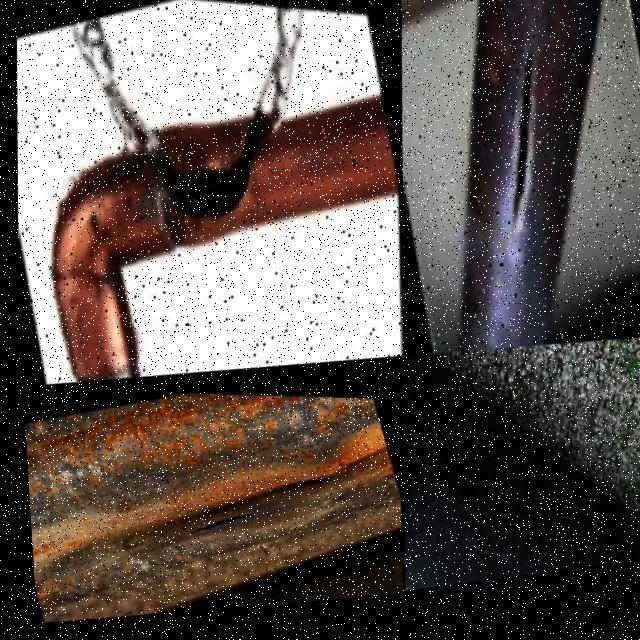crack: (507, 53, 535, 262), (179, 512, 263, 542)
rupture: (143, 99, 278, 257)
